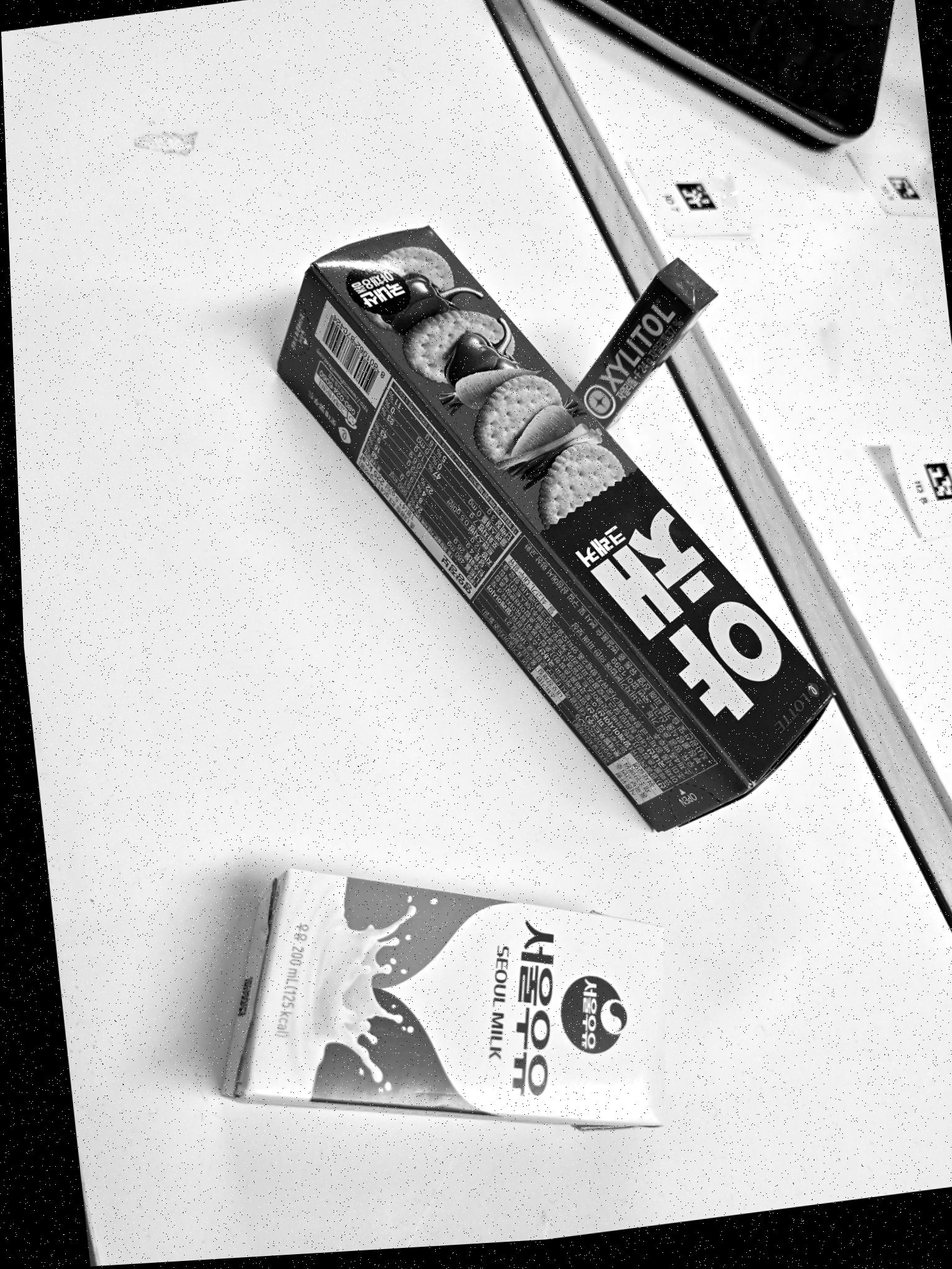cracker_vege: (278, 227, 832, 831)
gum_green: (578, 259, 717, 427)
milk_green: (223, 869, 664, 1129)
